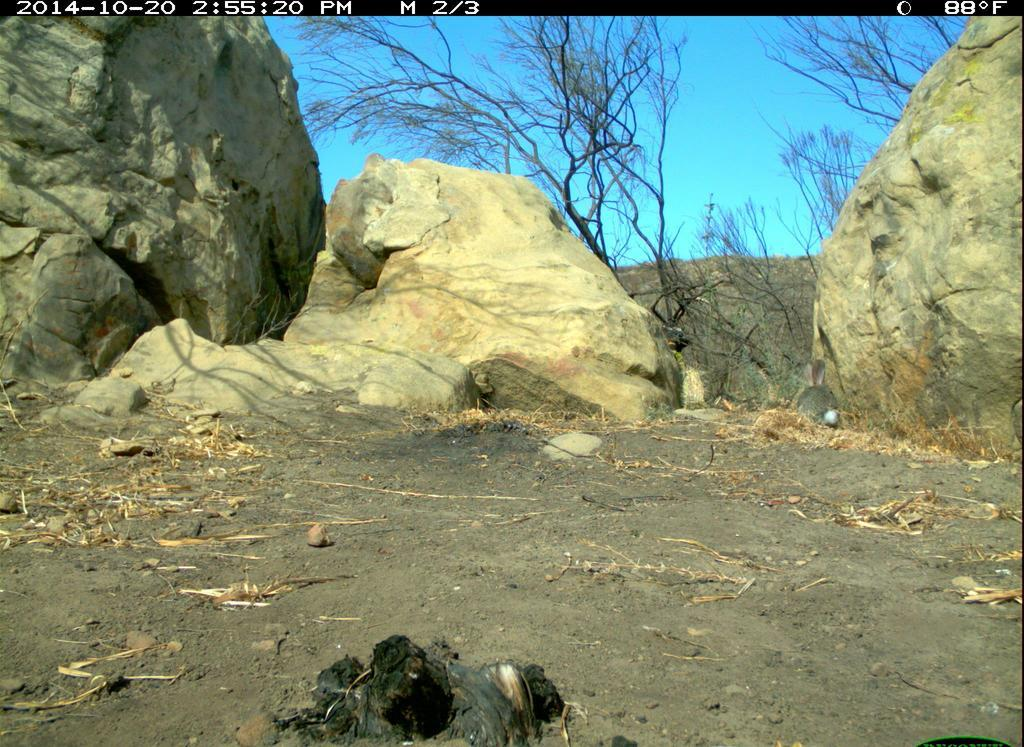rabbit: (793, 360, 847, 433)
